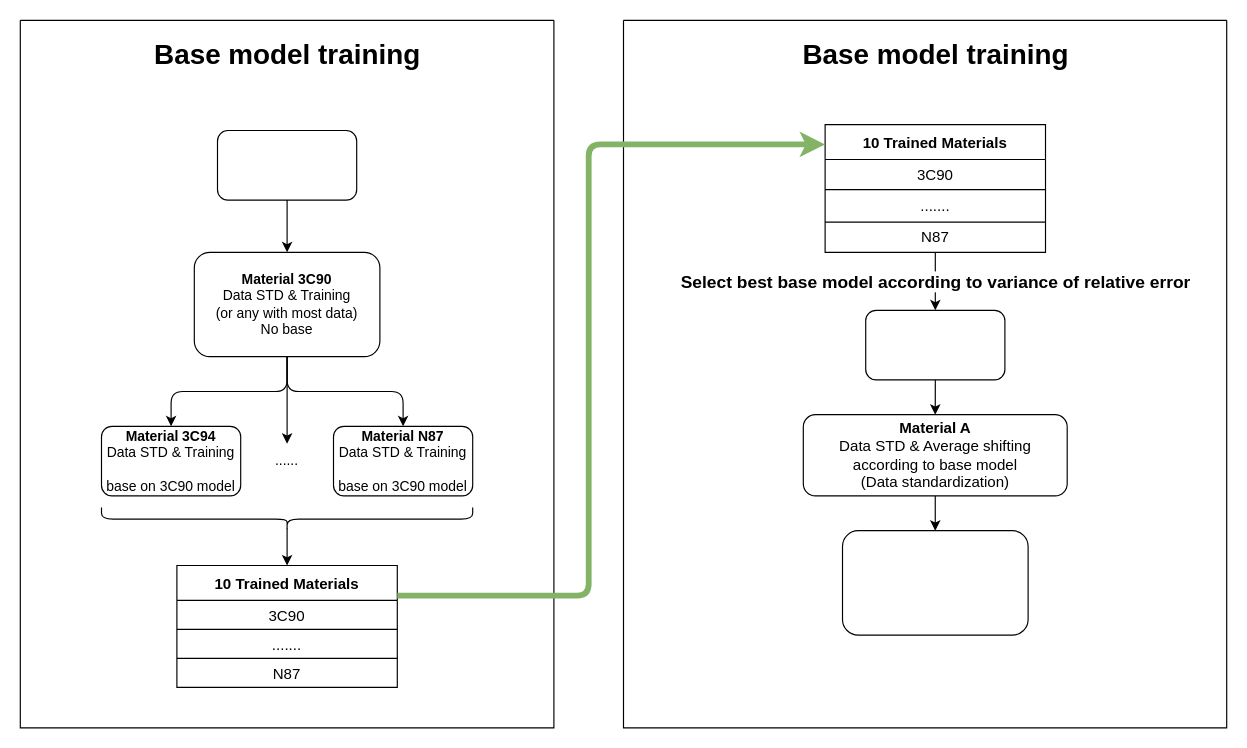
The diagram is 1247 pixels wide and 748 high, and some of its shapes have lost their labels. The centre of each missing label's shape, as x and y in pixels:
Best base model: point 935,344
MaterialA Training Base on best base model: point 934,582
Start: point 286,164
